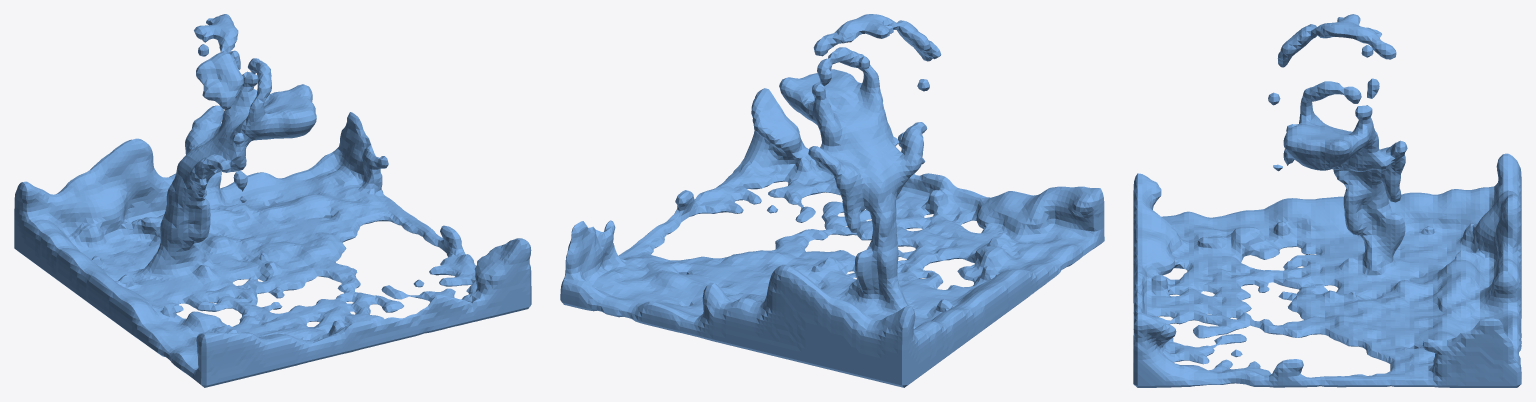
The model's file is water_0076.glb.
The picture shows the model from 3 angles, left to right: view 1: azimuth 30°, elevation 25°; view 2: azimuth 150°, elevation 25°; view 3: azimuth 270°, elevation 25°; orthographic projection. The views are drawn at different scales.
Visible parts, largest first — view 1: Water_0076; view 2: Water_0076; view 3: Water_0076.
Boxes of the visible parts, bbox=[...] form: Water_0076: bbox=[14, 14, 531, 387]; Water_0076: bbox=[560, 14, 1104, 387]; Water_0076: bbox=[1133, 14, 1521, 387].
Size of the model in its own units: 4.83 by 3.63 by 4.83.
